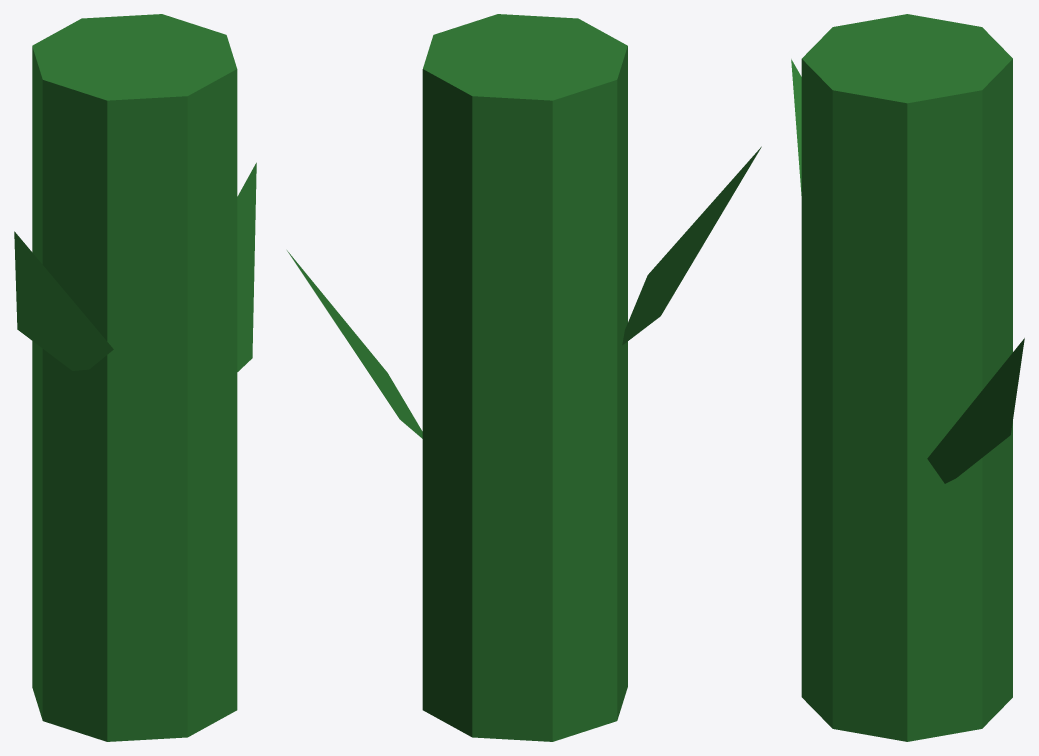
The model's file is tomatoe_stage_1.glb.
3 views of the same model, side by side, from view 1: azimuth 30°, elevation 25°; view 2: azimuth 150°, elevation 25°; view 3: azimuth 270°, elevation 25° (orthographic).
Parts seen in each view (by area): view 1: Cylinder, Plane.005, Plane.004; view 2: Cylinder, Plane.005, Plane.004; view 3: Cylinder, Plane.004, Plane.005.
Part boxes in pixels (bbox=[...]): Cylinder: bbox=[32, 14, 237, 741]; Plane.005: bbox=[14, 231, 113, 370]; Plane.004: bbox=[237, 162, 256, 371]; Cylinder: bbox=[422, 14, 627, 741]; Plane.005: bbox=[622, 146, 761, 345]; Plane.004: bbox=[287, 250, 422, 438]; Cylinder: bbox=[801, 14, 1012, 741]; Plane.004: bbox=[927, 338, 1024, 483]; Plane.005: bbox=[791, 59, 801, 195].
Size of the model in its own units: 0.2936 by 0.5 by 0.1658.
